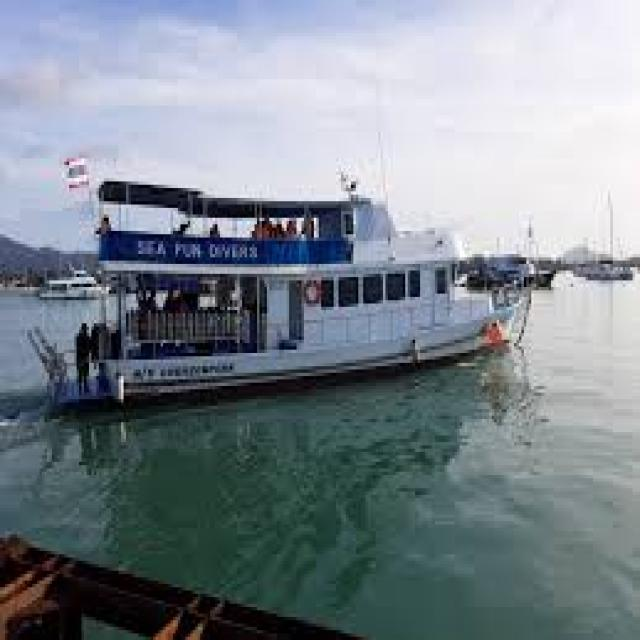fishing boat: (55, 161, 526, 398)
